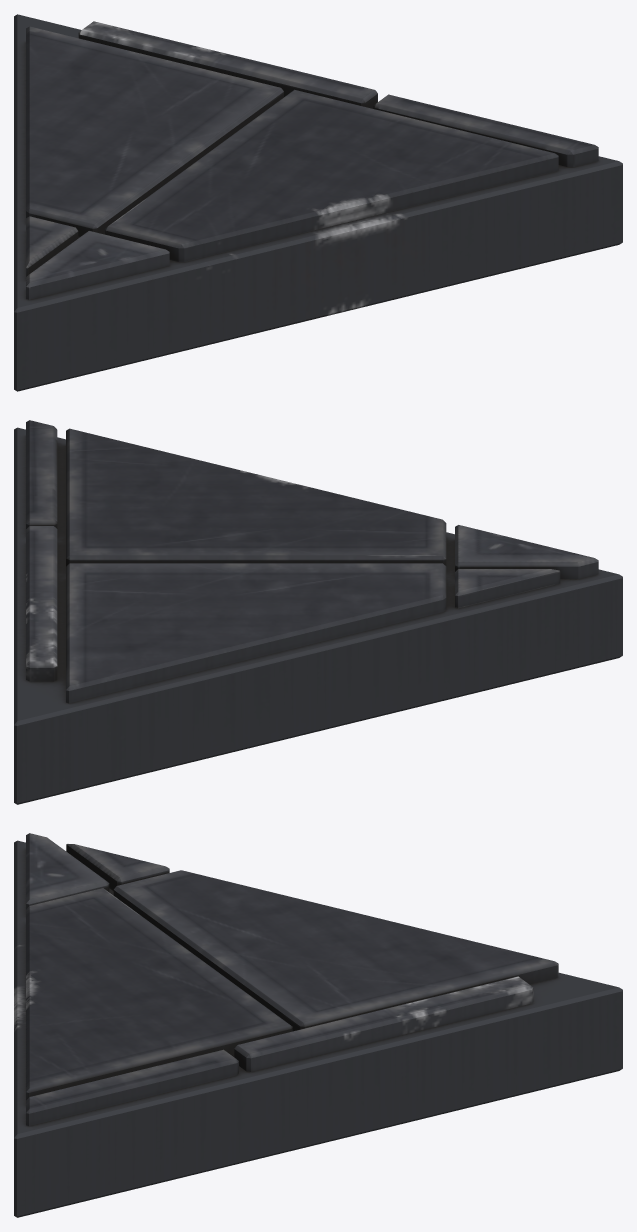
Rendered from nodexeus-set-deck-fill.glb.
The picture shows the model from 3 angles, top to bottom: view 1: azimuth 30°, elevation 25°; view 2: azimuth 150°, elevation 25°; view 3: azimuth 270°, elevation 25°; orthographic projection.
Parts seen in each view (by area): view 1: set-deck-fill; view 2: set-deck-fill; view 3: set-deck-fill.
Boxes of the visible parts, left/top/right/bottom form: set-deck-fill: left=14, top=14, right=622, bottom=391; set-deck-fill: left=14, top=420, right=622, bottom=804; set-deck-fill: left=14, top=833, right=622, bottom=1217.
Bounding box in the file's own units: 2.89 × 0.46 × 2.51.
Materials: 1 (1 with a texture image).
